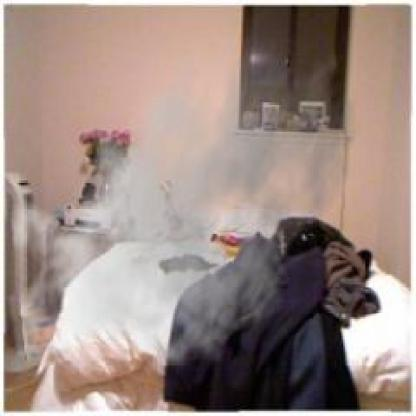Smoke: (8, 23, 360, 388)
